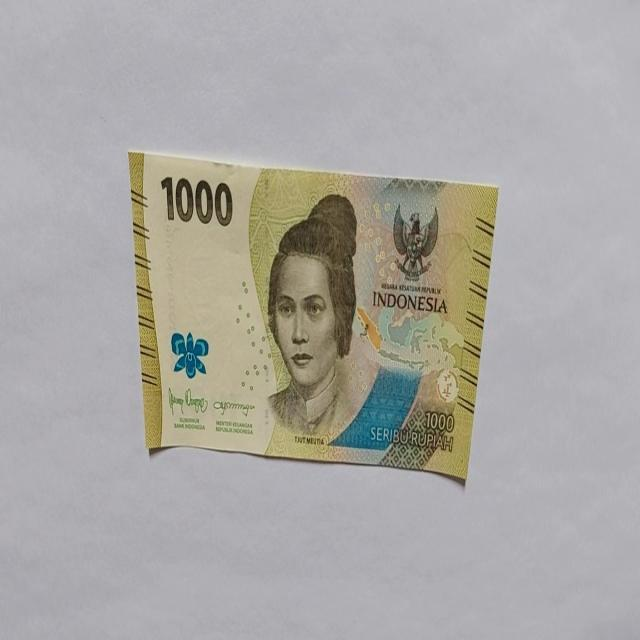seribu rupiah kertas: (128, 148, 498, 484)
